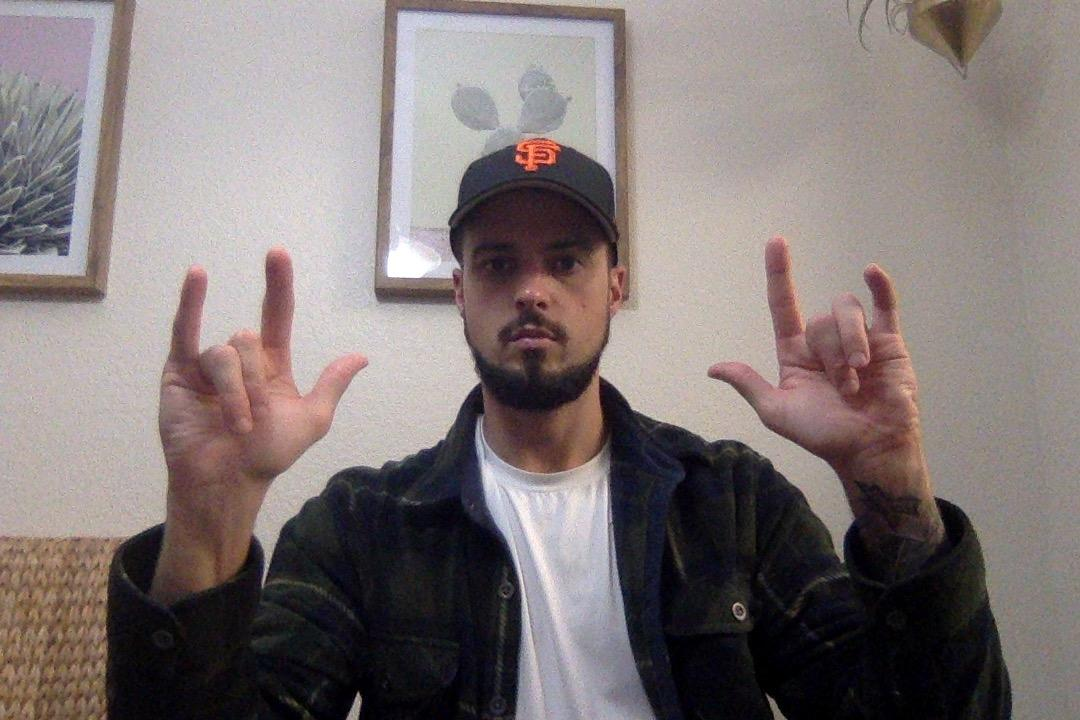Love-You: (700, 230, 927, 505), (135, 244, 375, 504)
